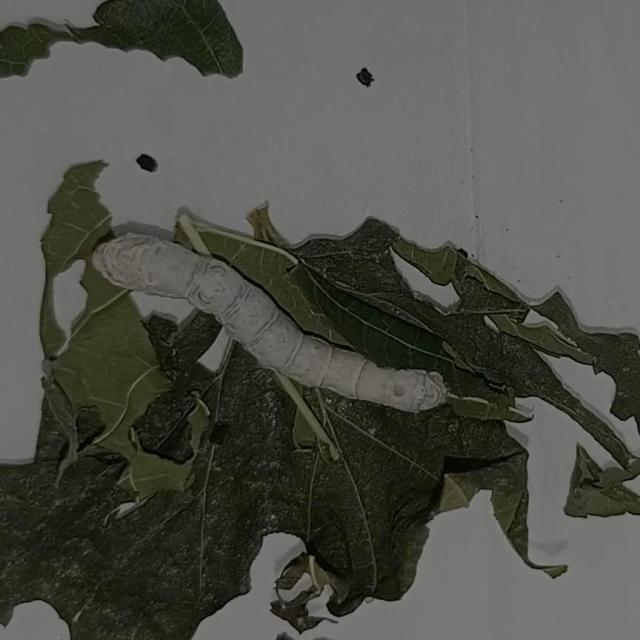Healthy: (87, 214, 460, 417)
